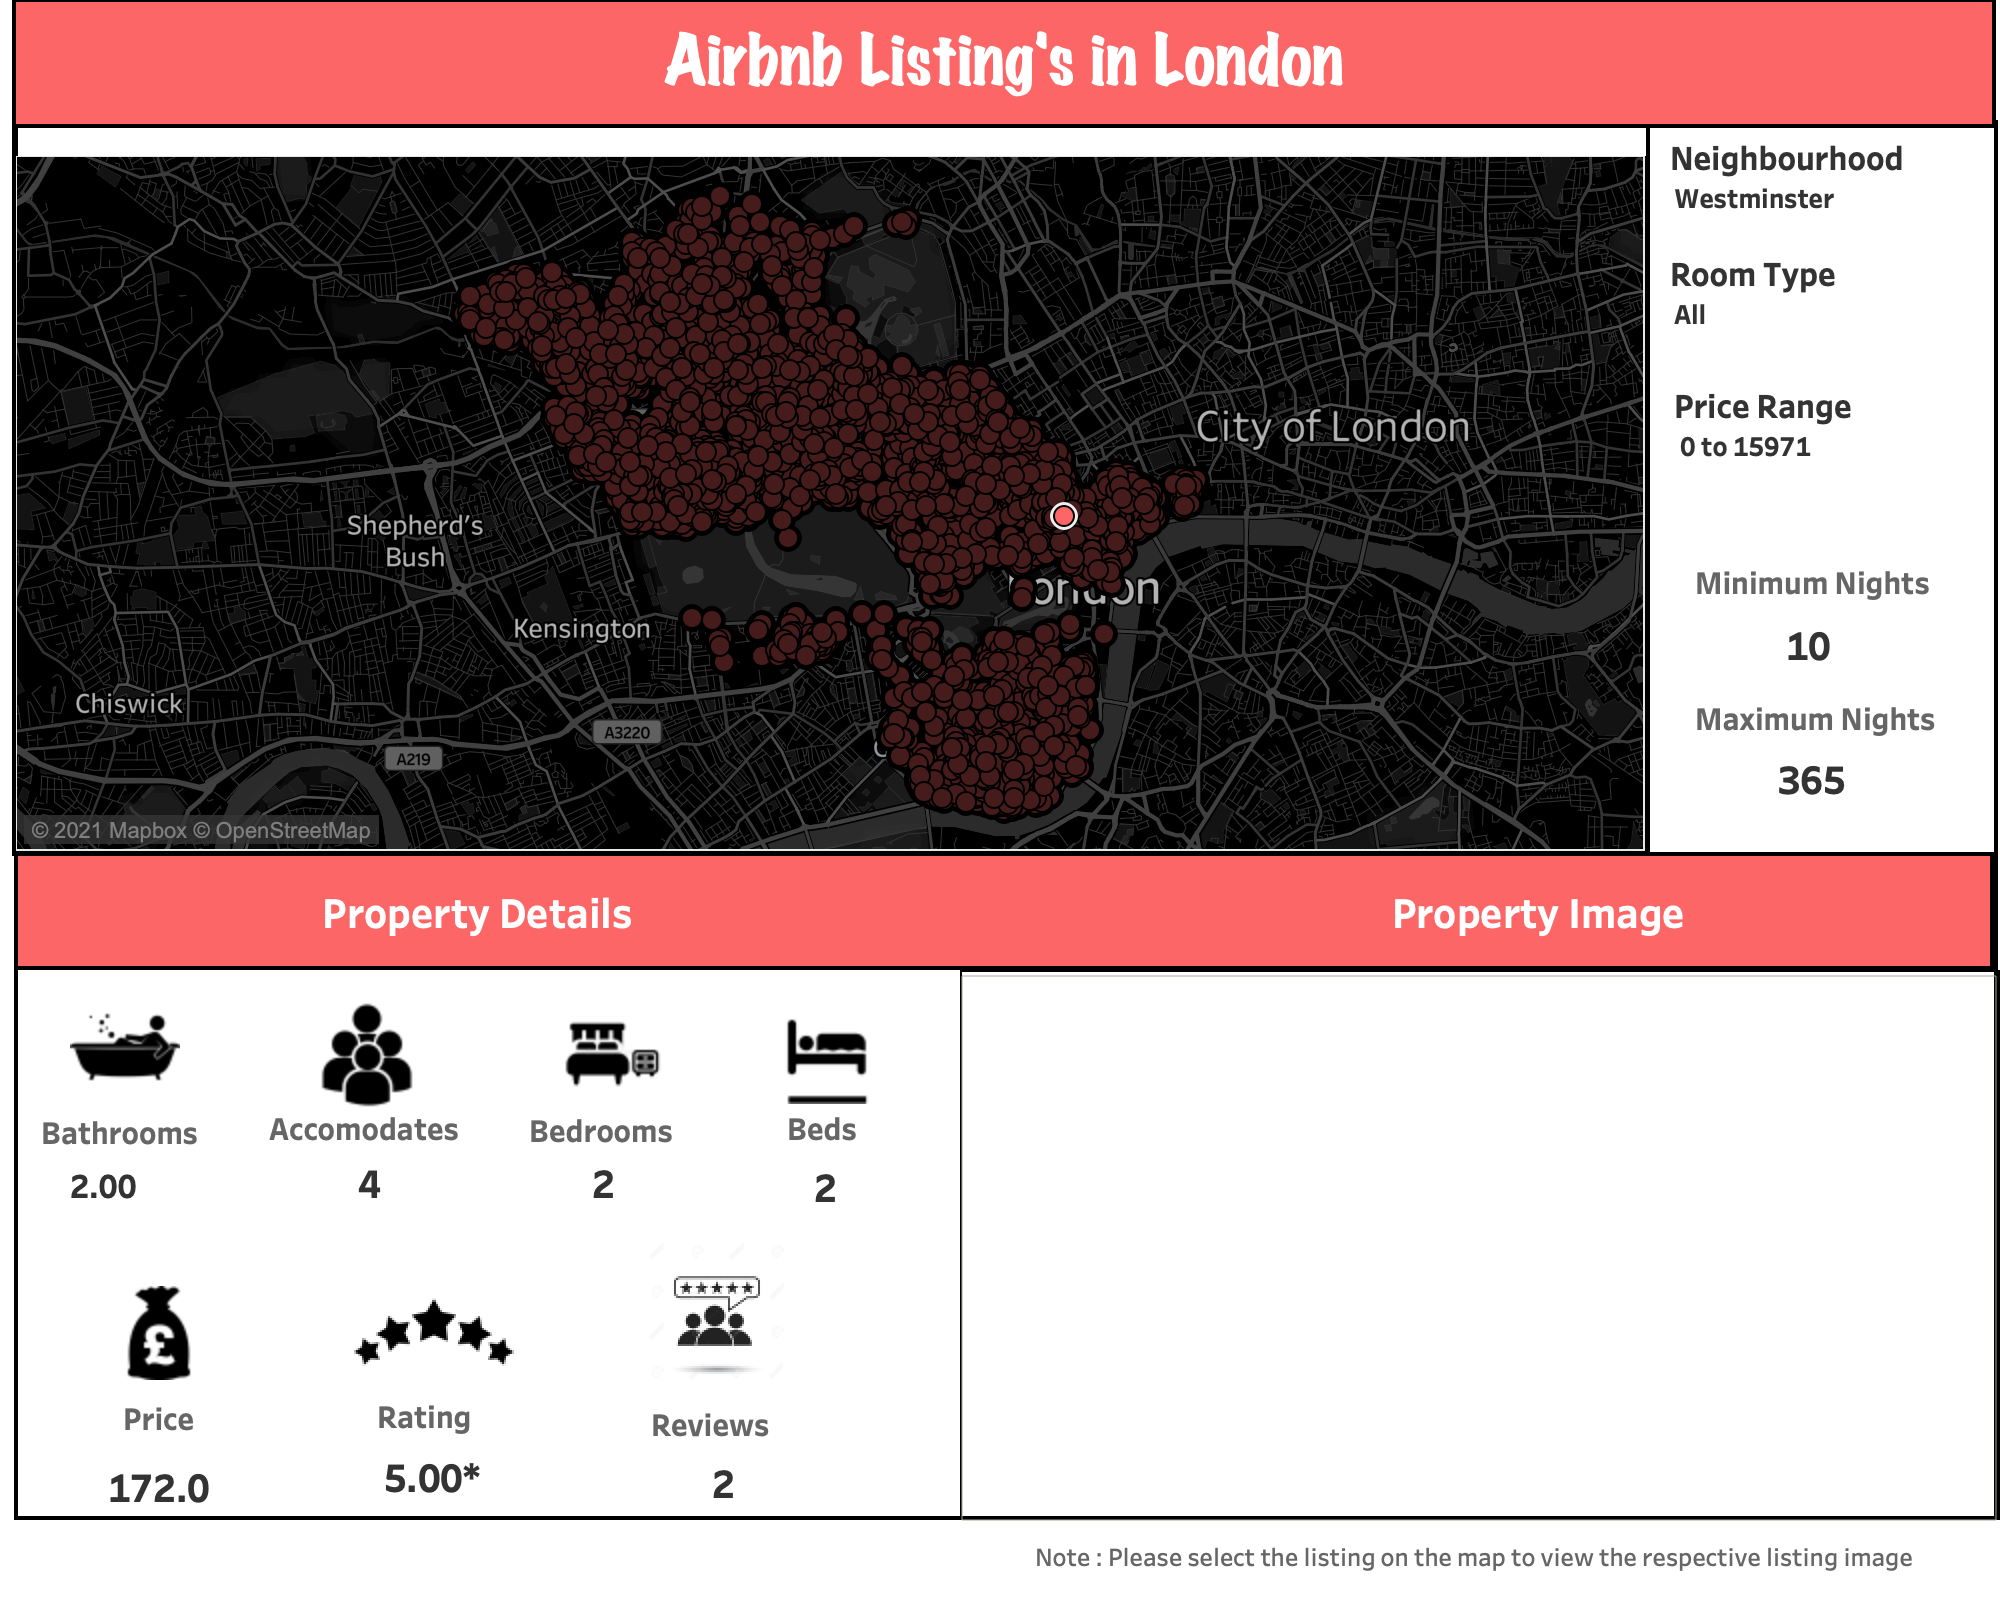

The dashboard page shown, as its layout file describes it:
{"tool":"tableau","page":{"name":"Listing","canvas":[1000,800],"ordinal":2},"visuals":[{"type":"worksheet","param":"/Users/saranyapandiaraj/Desktop/SJSU/Semester 2/Data 230 - Data Visualization/As","box":[8,1,59,59]},{"type":"worksheet","param":"/Users/saranyapandiaraj/Desktop/SJSU/Semester 2/Data 230 - Data Visualization/As","box":[937,1,59,59]},{"type":"worksheet","box":[7,60,992,700]},{"type":"worksheet","title":"Map","mark":"Automatic","rows":["latitude"],"cols":["longitude"],"box":[6,61,819,367]},{"type":"worksheet","title":"Map","mark":"Automatic","rows":["latitude"],"cols":["longitude"],"param":"[federated.1qsufdr19bst3l1gz6i2u0azt79q].[none:neighbourhood (neighbourhoods.geo","box":[835,67,160,53]},{"type":"worksheet","title":"Map","mark":"Automatic","rows":["latitude"],"cols":["longitude"],"param":"[federated.1qsufdr19bst3l1gz6i2u0azt79q].[none:room_type:nk]","box":[835,125,160,61]},{"type":"worksheet","title":"Map","mark":"Automatic","rows":["latitude"],"cols":["longitude"],"param":"[federated.1qsufdr19bst3l1gz6i2u0azt79q].[none:price:qk]","box":[837,191,160,61]},{"type":"worksheet","box":[845,266,135,50]},{"type":"worksheet","title":"Minimum Nights","mark":"Automatic","box":[860,310,70,45]},{"type":"worksheet","box":[845,334,135,50]},{"type":"worksheet","title":"Maximum Nights","mark":"Automatic","box":[868,377,70,47]},{"type":"worksheet","box":[7,426,990,59]},{"type":"worksheet","param":"https://a0.muscache.com/pictures/0c40fc2c-2807-4fc2-8d0d-26af86005d3a.jpg","box":[480,485,520,275]},{"type":"worksheet","param":"/Users/saranyapandiaraj/Desktop/SJSU/Semester 2/Data 230 - Data Visualization/As","box":[273,491,75,67]},{"type":"worksheet","param":"/Users/saranyapandiaraj/Desktop/SJSU/Semester 2/Data 230 - Data Visualization/As","box":[35,496,75,55]},{"type":"worksheet","param":"/Users/saranyapandiaraj/Desktop/SJSU/Semester 2/Data 230 - Data Visualization/As","box":[388,497,75,55]},{"type":"worksheet","param":"/Users/saranyapandiaraj/Desktop/SJSU/Semester 2/Data 230 - Data Visualization/As","box":[156,500,75,55]},{"type":"worksheet","box":[391,539,108,50]},{"type":"worksheet","box":[18,541,108,50]},{"type":"worksheet","box":[262,541,108,49]},{"type":"worksheet","box":[132,545,106,38]},{"type":"worksheet","title":"Accomodates","mark":"Automatic","box":[135,579,93,42]},{"type":"worksheet","title":"Bedrooms","mark":"Automatic","box":[252,579,87,42]},{"type":"worksheet","title":"Beds","mark":"Automatic","box":[363,581,73,37]},{"type":"worksheet","title":"Bathroom","mark":"Automatic","box":[22,582,78,22]},{"type":"worksheet","param":"/Users/saranyapandiaraj/Desktop/SJSU/Semester 2/Data 230 - Data Visualization/As","box":[165,614,199,104]},{"type":"worksheet","param":"/Users/saranyapandiaraj/Desktop/SJSU/Semester 2/Data 230 - Data Visualization/As","box":[323,620,72,71]},{"type":"worksheet","param":"/Users/saranyapandiaraj/Desktop/SJSU/Semester 2/Data 230 - Data Visualization/As","box":[56,643,59,47]},{"type":"worksheet","box":[59,684,111,51]},{"type":"worksheet","box":[186,685,111,47]},{"type":"worksheet","box":[323,690,111,44]},{"type":"worksheet","title":"Ratings","mark":"Automatic","box":[185,729,73,39]},{"type":"worksheet","title":"Reviews","mark":"Automatic","box":[313,729,97,43]},{"type":"worksheet","title":"Price","mark":"Automatic","box":[50,731,95,38]}]}

Visuals, with their boxes in screenshot pixels (x1, y1, x2, y2), scaled from the page's 1000x800 canvas onto the 2000x1600 screenshot:
worksheet: (x1=16, y1=2, x2=134, y2=120)
worksheet: (x1=1874, y1=2, x2=1992, y2=120)
worksheet: (x1=14, y1=120, x2=1998, y2=1520)
"Map" worksheet: (x1=12, y1=122, x2=1650, y2=856)
"Map" worksheet: (x1=1670, y1=134, x2=1990, y2=240)
"Map" worksheet: (x1=1670, y1=250, x2=1990, y2=372)
"Map" worksheet: (x1=1674, y1=382, x2=1994, y2=504)
worksheet: (x1=1690, y1=532, x2=1960, y2=632)
"Minimum Nights" worksheet: (x1=1720, y1=620, x2=1860, y2=710)
worksheet: (x1=1690, y1=668, x2=1960, y2=768)
"Maximum Nights" worksheet: (x1=1736, y1=754, x2=1876, y2=848)
worksheet: (x1=14, y1=852, x2=1994, y2=970)
worksheet: (x1=960, y1=970, x2=1999, y2=1520)
worksheet: (x1=546, y1=982, x2=696, y2=1116)
worksheet: (x1=70, y1=992, x2=220, y2=1102)
worksheet: (x1=776, y1=994, x2=926, y2=1104)
worksheet: (x1=312, y1=1000, x2=462, y2=1110)
worksheet: (x1=782, y1=1078, x2=998, y2=1178)
worksheet: (x1=36, y1=1082, x2=252, y2=1182)
worksheet: (x1=524, y1=1082, x2=740, y2=1180)
worksheet: (x1=264, y1=1090, x2=476, y2=1166)
"Accomodates" worksheet: (x1=270, y1=1158, x2=456, y2=1242)
"Bedrooms" worksheet: (x1=504, y1=1158, x2=678, y2=1242)
"Beds" worksheet: (x1=726, y1=1162, x2=872, y2=1236)
"Bathroom" worksheet: (x1=44, y1=1164, x2=200, y2=1208)
worksheet: (x1=330, y1=1228, x2=728, y2=1436)
worksheet: (x1=646, y1=1240, x2=790, y2=1382)
worksheet: (x1=112, y1=1286, x2=230, y2=1380)
worksheet: (x1=118, y1=1368, x2=340, y2=1470)
worksheet: (x1=372, y1=1370, x2=594, y2=1464)
worksheet: (x1=646, y1=1380, x2=868, y2=1468)
"Ratings" worksheet: (x1=370, y1=1458, x2=516, y2=1536)
"Reviews" worksheet: (x1=626, y1=1458, x2=820, y2=1544)
"Price" worksheet: (x1=100, y1=1462, x2=290, y2=1538)
